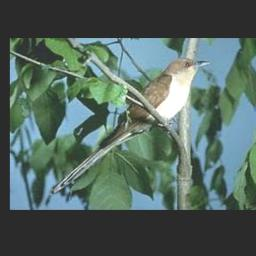Cuckoo: (48, 55, 215, 198)
